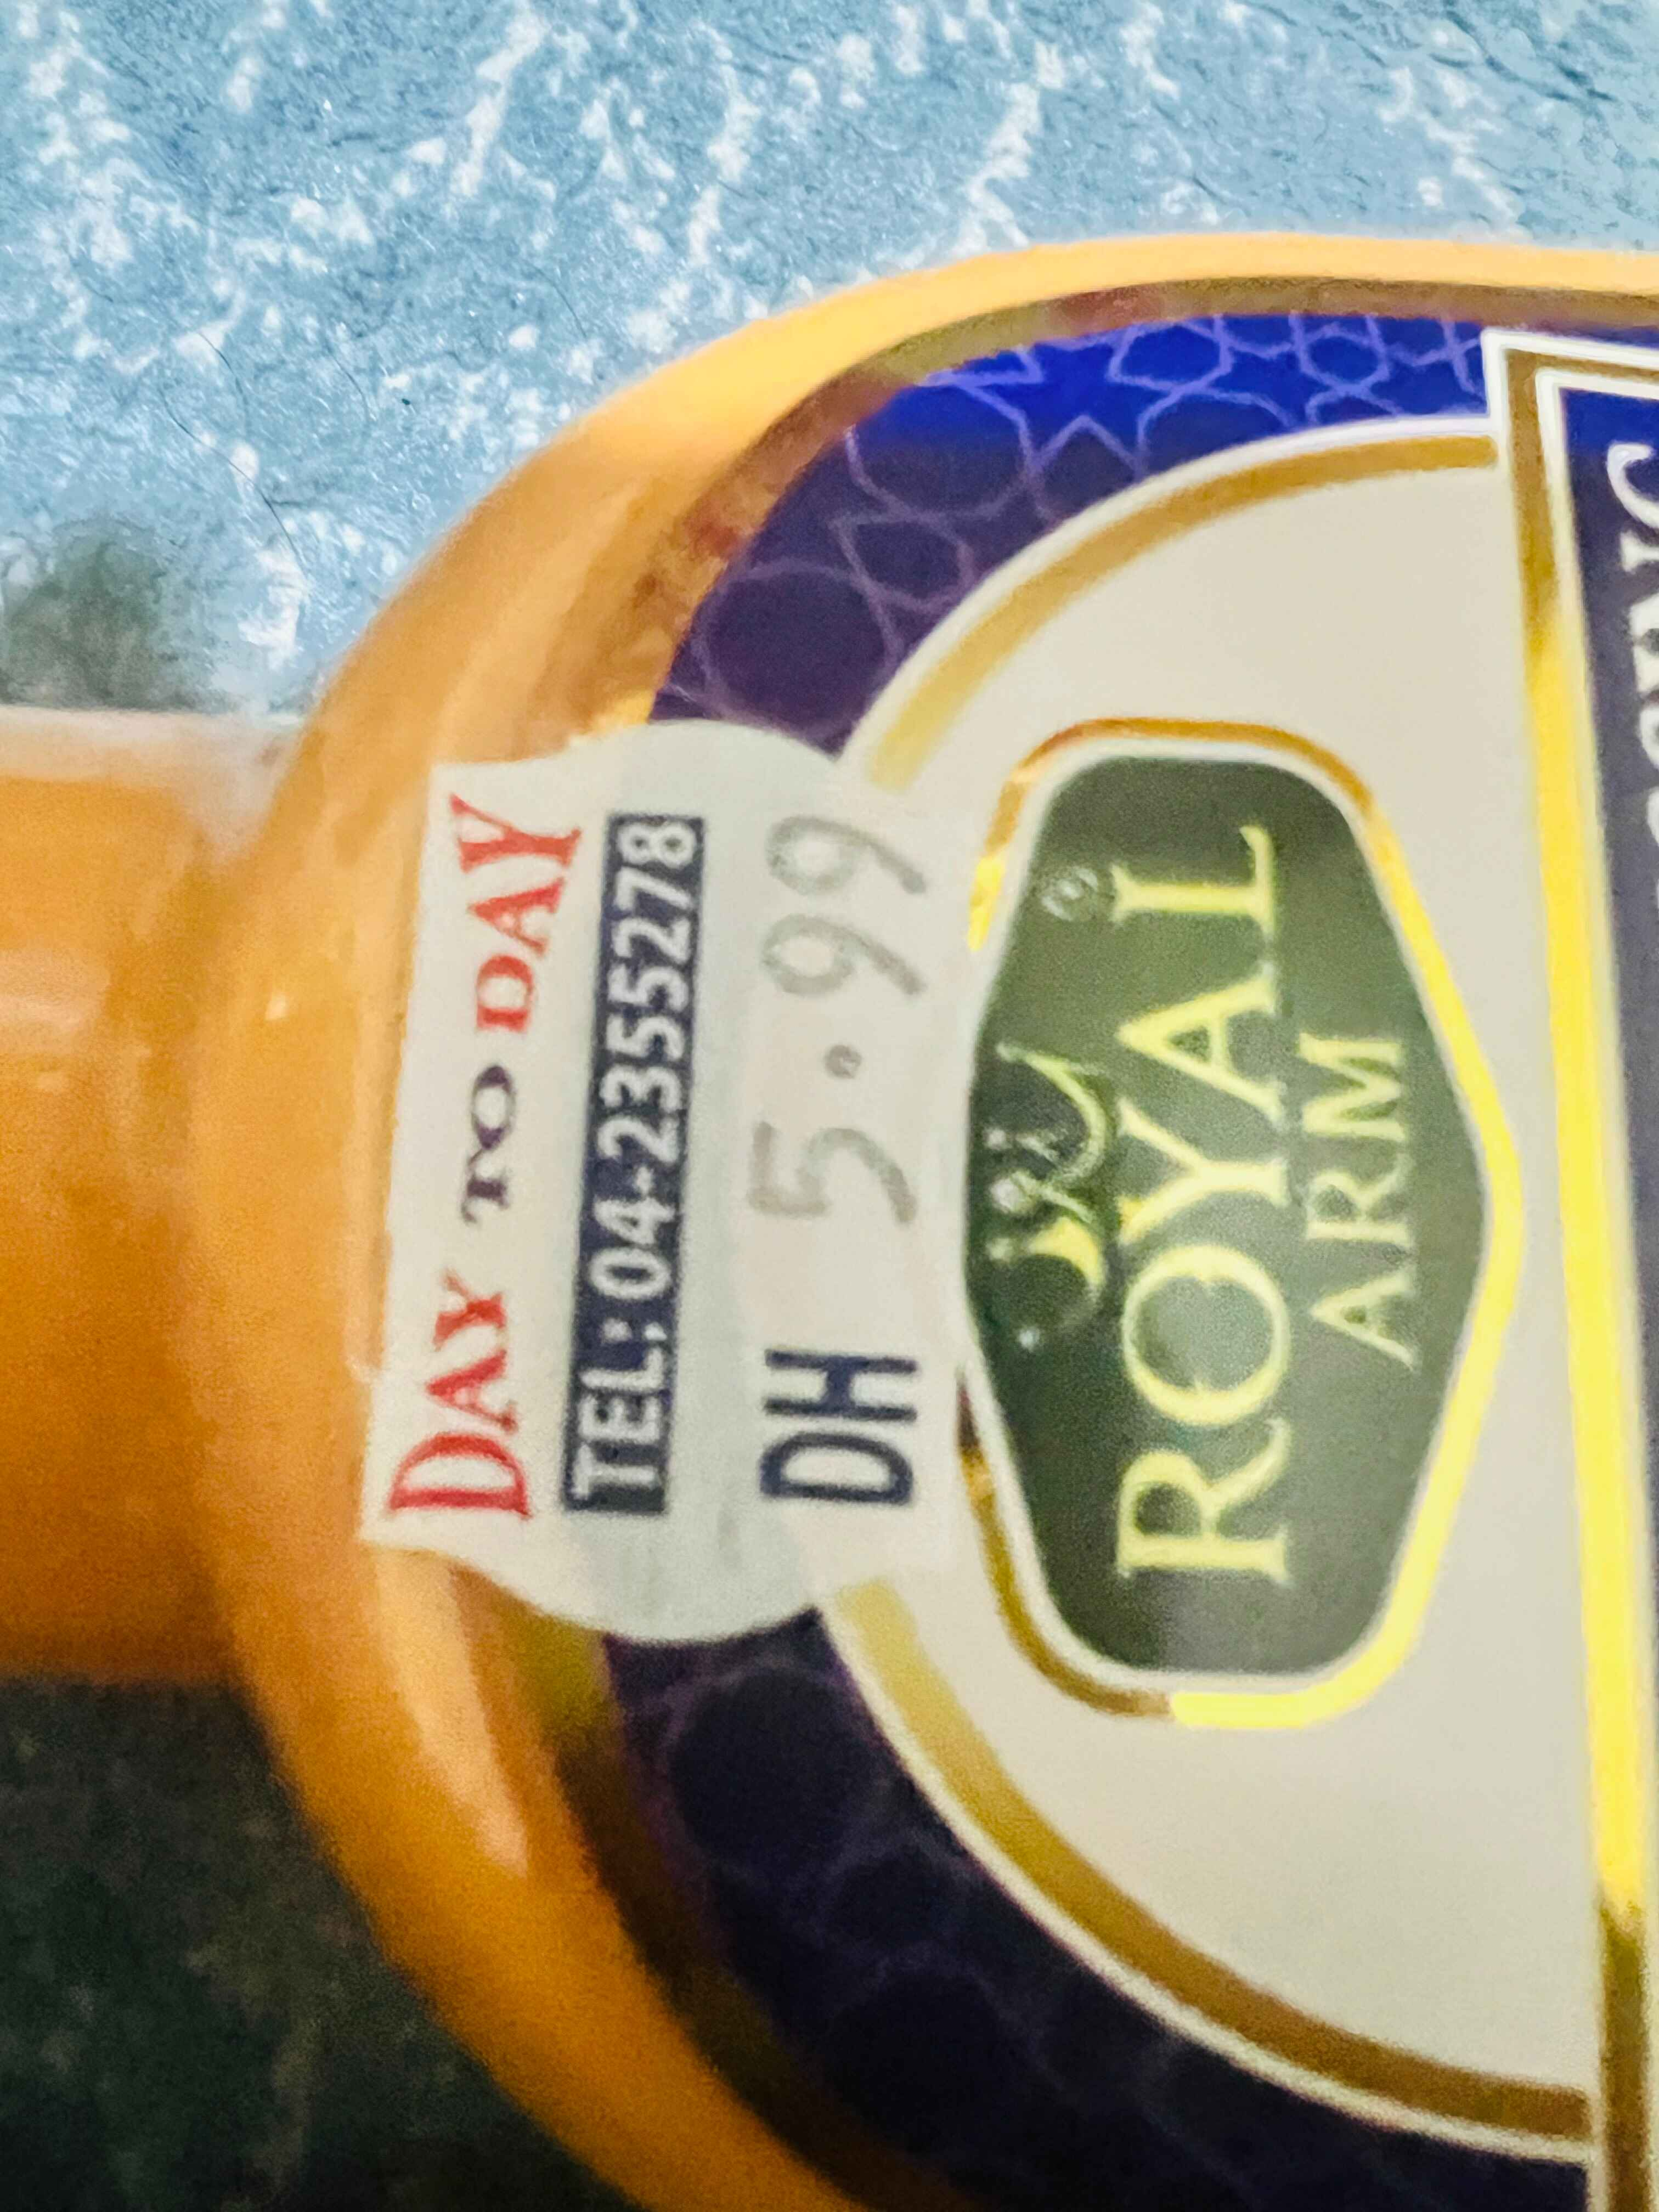PriceTagSmall: (371, 728, 955, 1641)
